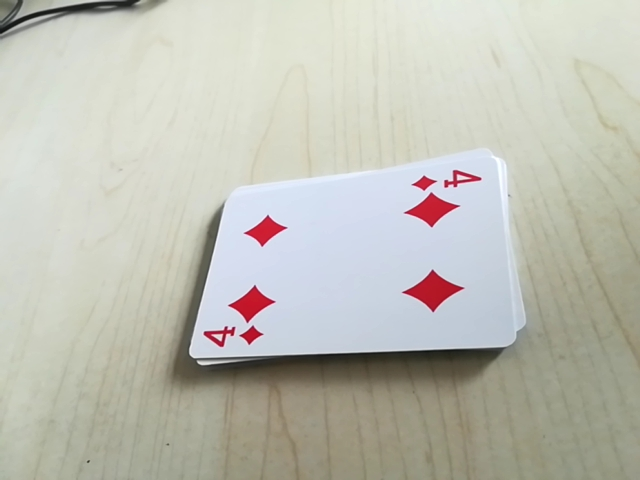fk 4: (409, 161, 491, 195), (194, 324, 272, 357)
